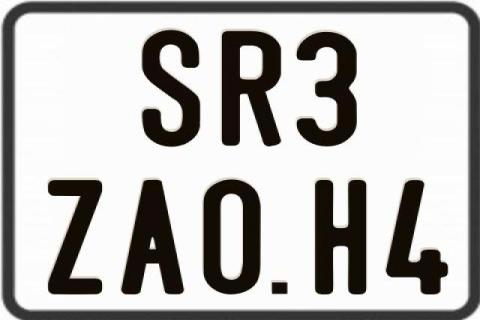0: (384, 180, 452, 296), (296, 30, 359, 148), (201, 178, 264, 294)
A: (120, 178, 188, 294)
H: (315, 178, 367, 294)
R: (220, 29, 280, 149)
S: (140, 27, 200, 149)
Z: (48, 178, 103, 298)
